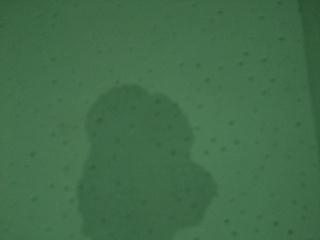Water_detected: (90, 103, 188, 224)
